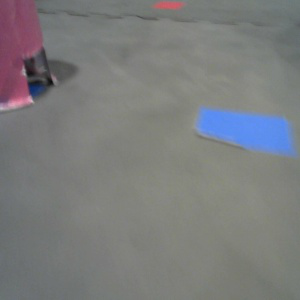middle: (1, 1, 59, 111)
